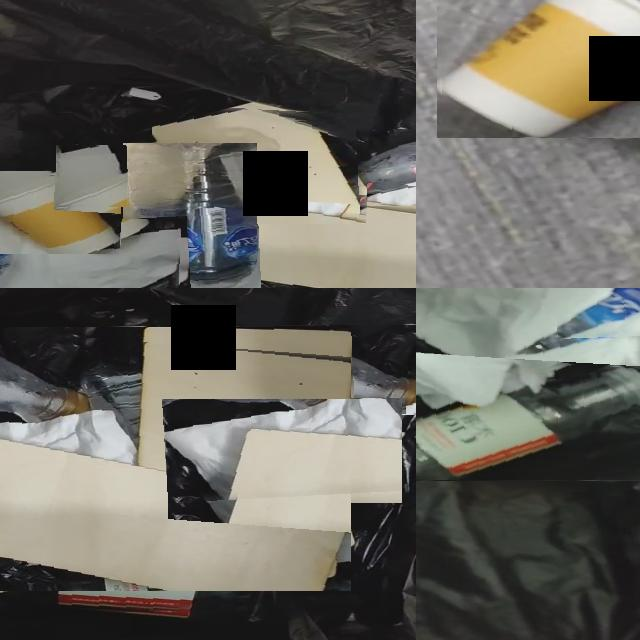bottle: (416, 364, 640, 480), (125, 143, 257, 288), (206, 325, 416, 414), (4, 562, 252, 612), (556, 288, 640, 339), (358, 142, 416, 191)
carton: (0, 340, 351, 591), (152, 108, 368, 224), (223, 193, 416, 288)
dixie_cup: (441, 0, 640, 137), (0, 175, 121, 254)
paper: (416, 288, 640, 403), (164, 399, 402, 501), (0, 219, 182, 288), (56, 146, 127, 207), (367, 186, 416, 206)
